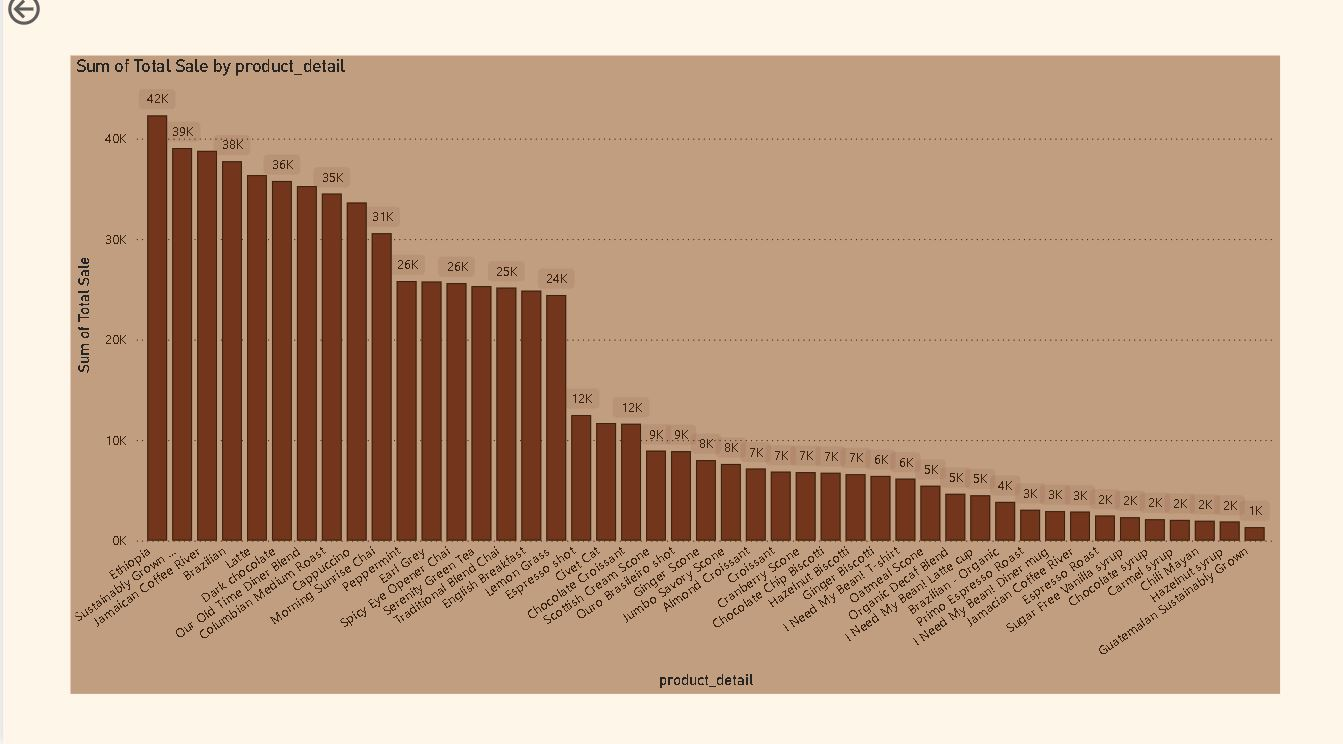

The page's visual inventory and layout, read from the dashboard file:
{"tool":"powerbi","page":{"name":"Product Detail","canvas":[1280,720],"ordinal":3},"visuals":[{"type":"columnChart","fields":{"Category":["Transactions.product_detail"],"Y":["Sum(Transactions.Total Sale)"]},"box":[80,64,1120,592],"z":0},{"type":"actionButton","box":[0,0,100,40],"z":1000}]}

Visuals, with their boxes in screenshot pixels (x1, y1, x2, y2), scaled from the page's 1280x720 canvas onto the 1343x744 screenshot:
columnChart - Transactions.product_detail x Sum(Transactions.Total Sale): box=[84, 66, 1259, 678]
actionButton: box=[0, 0, 105, 41]
